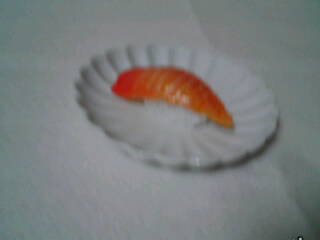002_classes: (106, 66, 242, 135)
